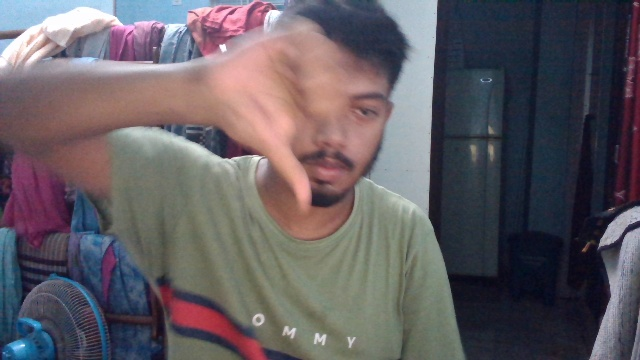no: (181, 21, 358, 221)
